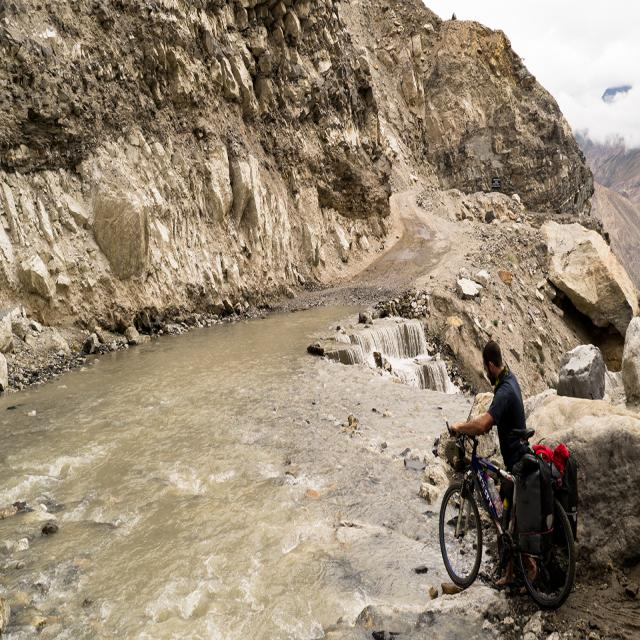bicycle: (440, 340, 578, 609)
